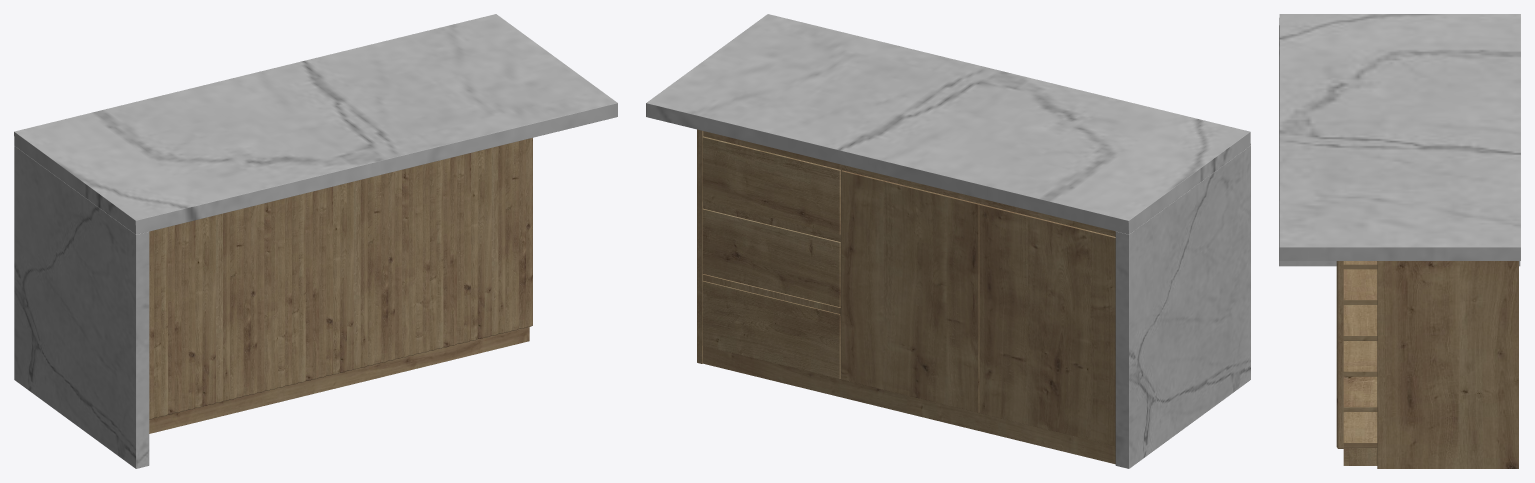
The picture shows the model from 3 angles, left to right: view 1: azimuth 30°, elevation 25°; view 2: azimuth 150°, elevation 25°; view 3: azimuth 270°, elevation 25°; orthographic projection.
Parts seen in each view (by area): view 1: Front, Marble top, Marble side, Toe kick; view 2: Marble top, Cabinet doors, Marble side, Drawers, Toe kick, Cabinet frame; view 3: Marble top, Cabinet frame, Shelves, Front, Toe kick, Marble side.
Boxes of the visible parts, x1,y1,x2,y2 form: Front: (149,138,532,419); Marble top: (14,14,617,234); Marble side: (14,146,149,468); Toe kick: (149,327,529,433); Marble top: (646,14,1250,234); Cabinet doors: (841,170,1115,446); Marble side: (1115,145,1250,468); Drawers: (702,136,840,378); Toe kick: (703,346,1115,464); Cabinet frame: (697,129,1115,378); Marble top: (1279,14,1520,260); Cabinet frame: (1377,261,1518,468); Shelves: (1343,261,1377,447); Front: (1336,261,1343,448); Toe kick: (1343,448,1377,465); Marble side: (1279,70,1520,266).
Size of the model in its own units: 1.83 by 0.9 by 0.802.
Materials: 2 (2 with a texture image).
